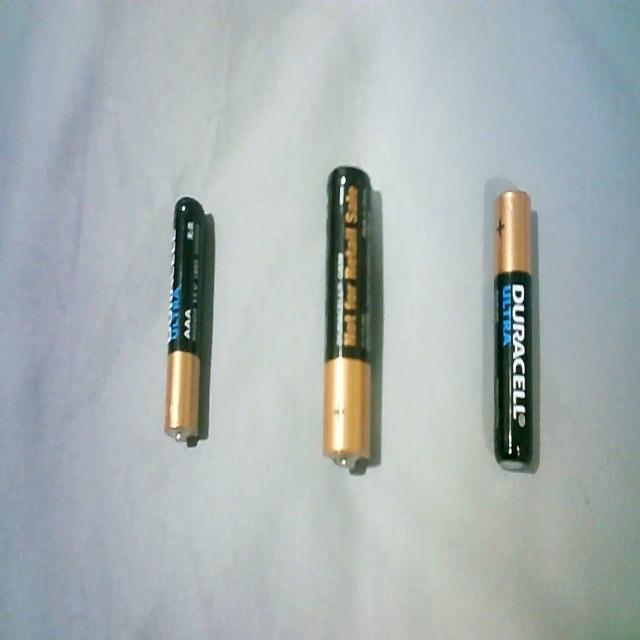AA: (318, 157, 376, 473)
AAA: (486, 182, 542, 474), (160, 187, 216, 455)
